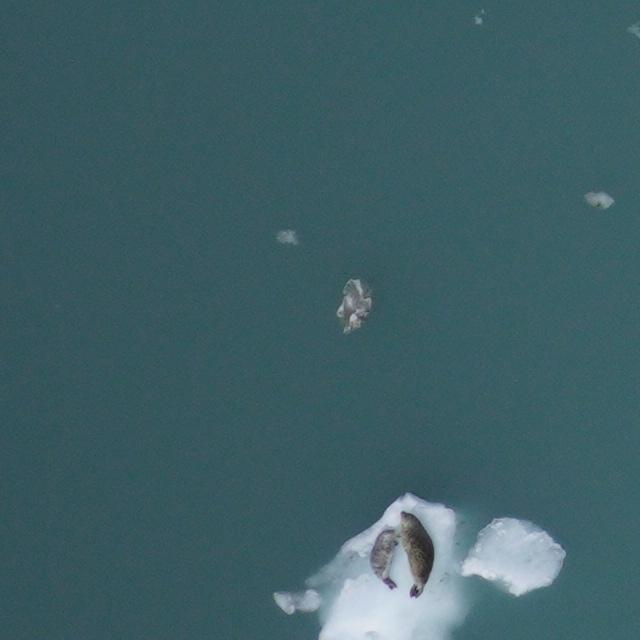seal: (396, 508, 438, 600), (366, 524, 403, 593)
